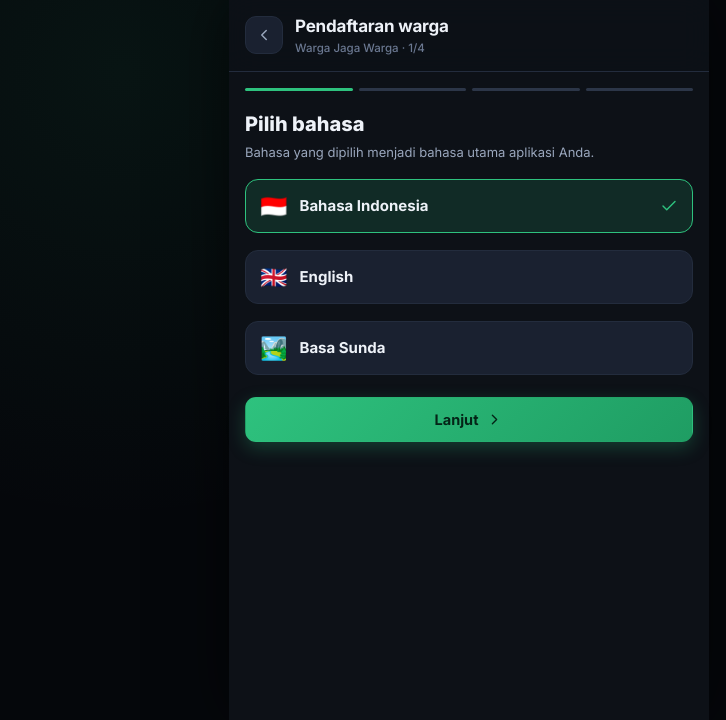
Test: kode undangan yang hanya ada di perangkat › kode yang dikenal server tidak diberi peringatan itu
Click the button "Lanjut" at [469, 419], box [245,397,693,442]
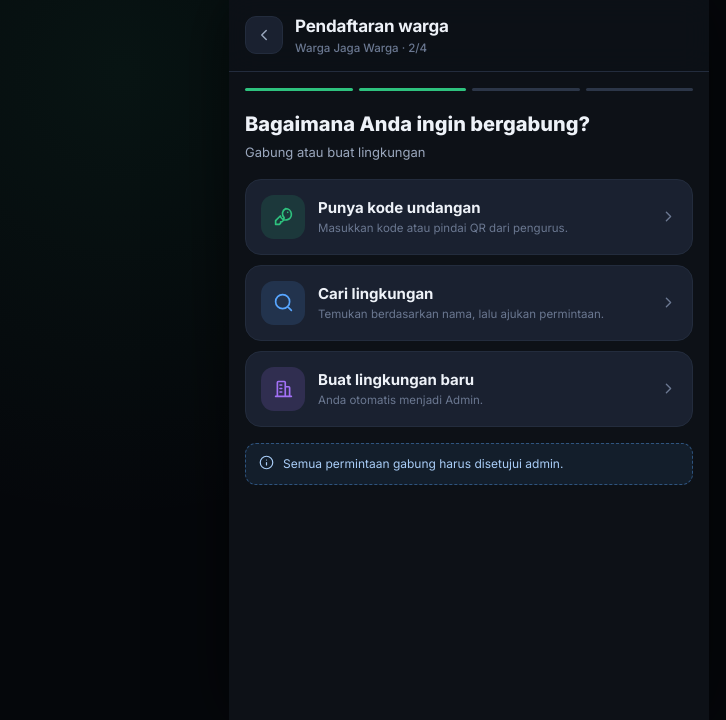
Click the button "Punya kode undangan" at [469, 217], box [245,179,693,255]
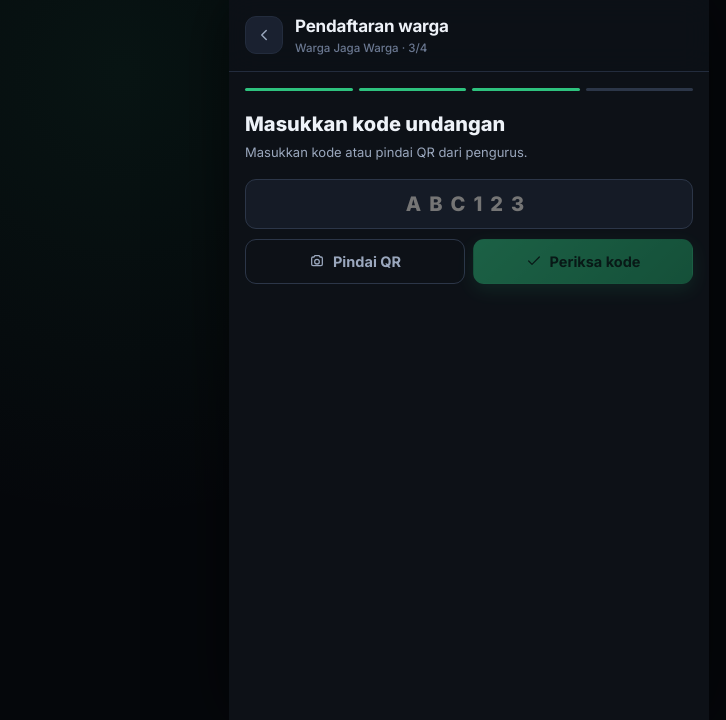
Expected: the field with placeholder "ABC123" is shown
Type "ABC234" into the field with placeholder "ABC123" at [469, 204], box [245,179,693,229]
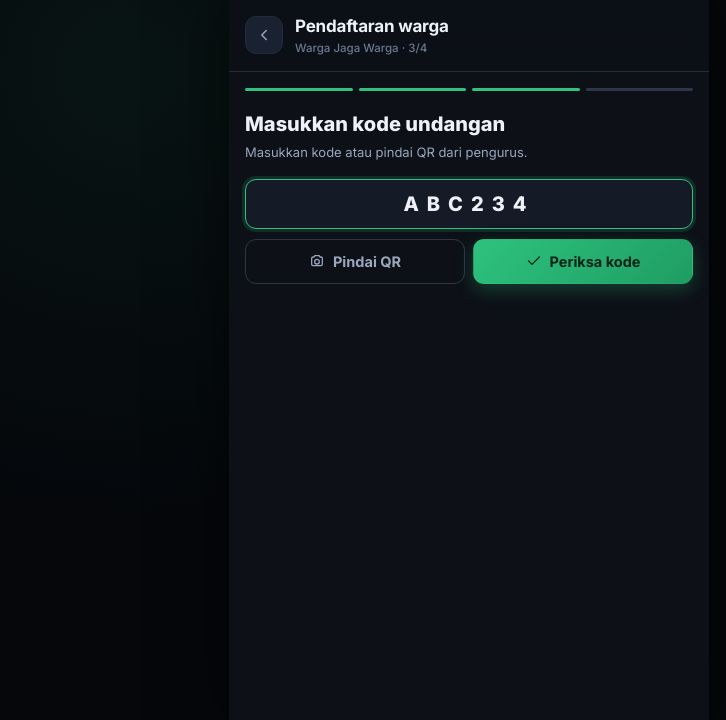
Click the button "Periksa kode" at [583, 261], box [473,239,693,284]
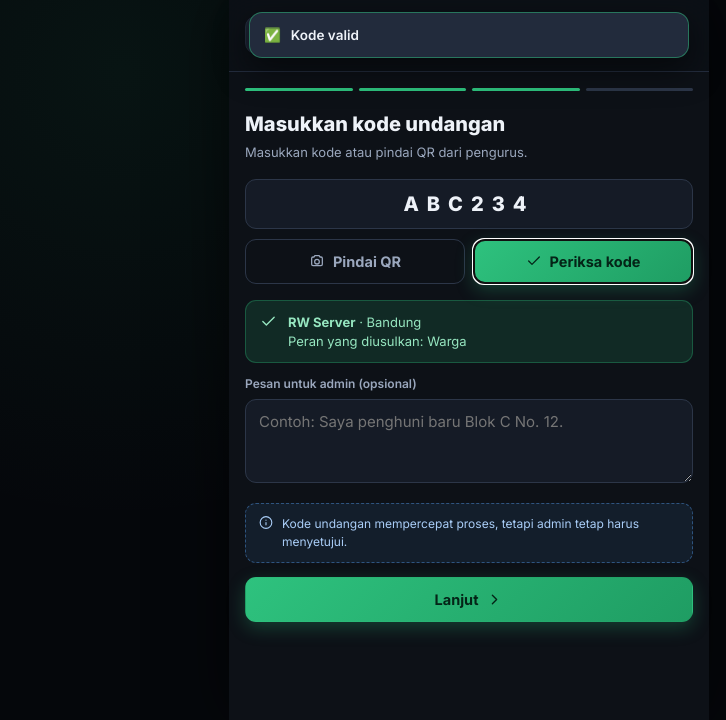
Expected: the text "RW Server" is shown, [288,314,356,330]
